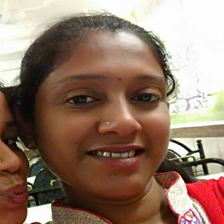no_mask: (41, 40, 168, 193)
